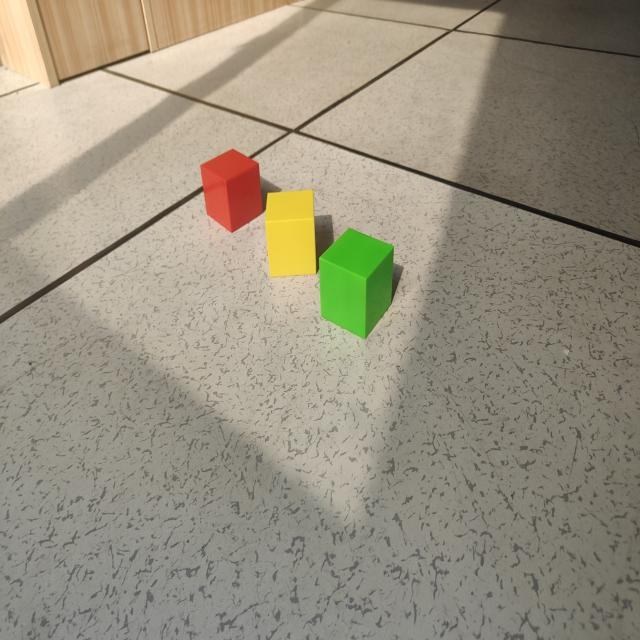green: (318, 230, 397, 340)
red: (200, 150, 266, 233)
yellow: (264, 191, 322, 280)
